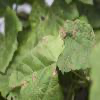grape leaf black rot: (7, 29, 66, 99), (57, 18, 98, 78)
